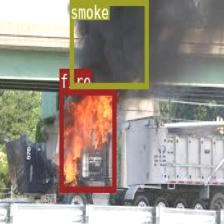fire: (59, 88, 115, 192)
smoke: (69, 0, 148, 88)
